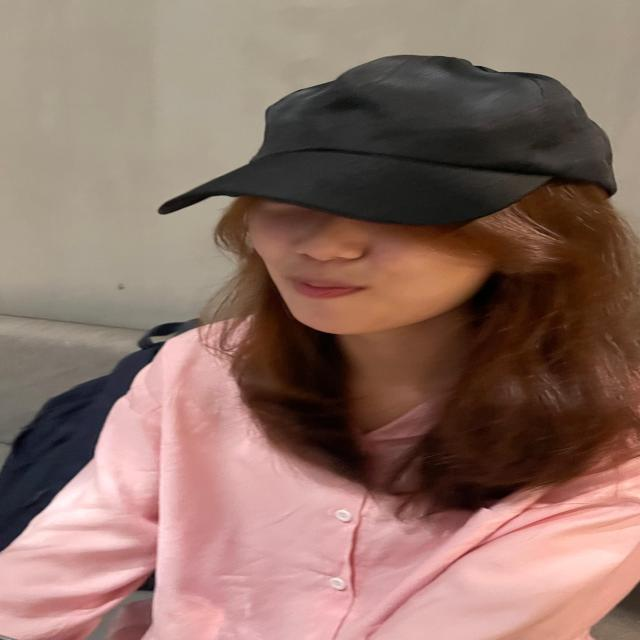3_gorra: (153, 52, 623, 232)
